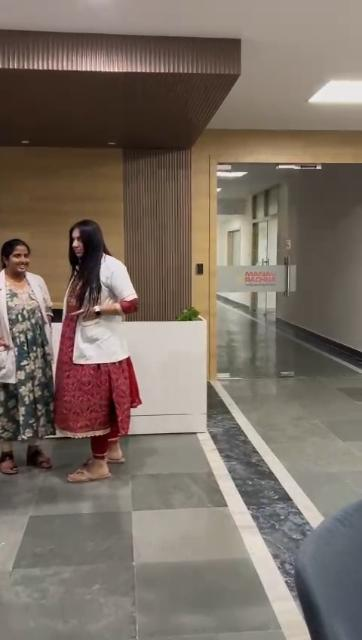floor: (3, 301, 361, 640)
moving-obj: (0, 198, 148, 500)
object: (275, 498, 362, 640)
wall: (5, 146, 125, 224), (138, 146, 192, 304), (106, 152, 186, 250), (184, 144, 212, 314), (209, 139, 362, 161), (0, 197, 72, 236)
